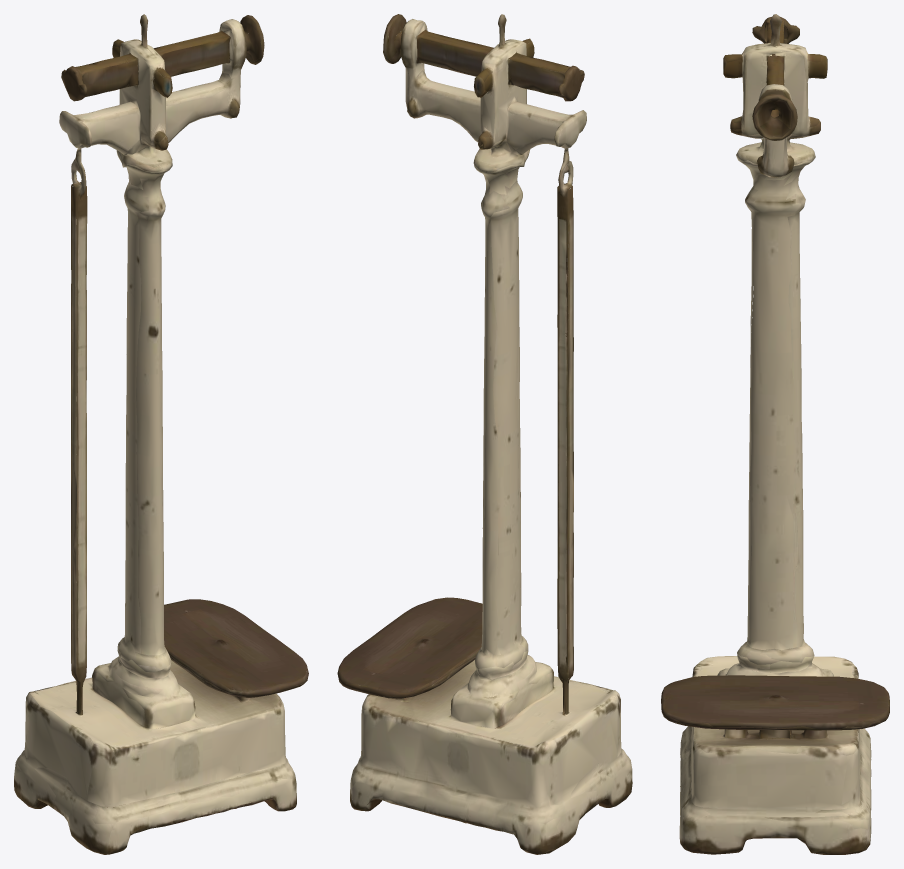
Rendered from balanza_columna.glb.
3 views of the same model, side by side, from view 1: azimuth 30°, elevation 25°; view 2: azimuth 150°, elevation 25°; view 3: azimuth 270°, elevation 25° (orthographic).
Visible parts, largest first — view 1: geometry_0; view 2: geometry_0; view 3: geometry_0.
Part boxes in pixels (box(x1,y1,x2,y2)): geometry_0: box(14, 14, 308, 854); geometry_0: box(337, 14, 632, 854); geometry_0: box(661, 14, 889, 854).
Bounding box in the file's own units: 0.55 × 1.9 × 0.5.
Materials: 1 (1 with a texture image).
